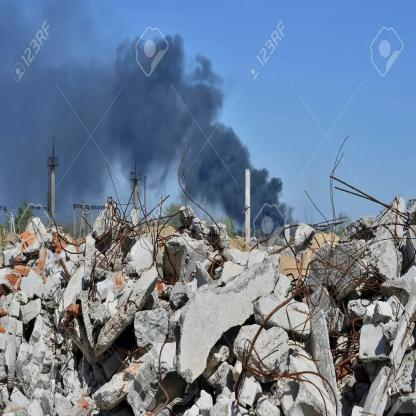rebar: (81, 143, 232, 288), (233, 221, 341, 416), (284, 236, 415, 379), (281, 134, 349, 234), (326, 173, 410, 223), (349, 217, 416, 279), (41, 280, 86, 356), (46, 199, 87, 257), (149, 333, 177, 416), (229, 214, 282, 253), (114, 338, 152, 374), (207, 340, 226, 389), (0, 376, 34, 400), (398, 309, 416, 352), (62, 224, 87, 247), (378, 366, 393, 400), (0, 259, 32, 274), (56, 256, 73, 283), (87, 259, 95, 298), (185, 269, 197, 284)
